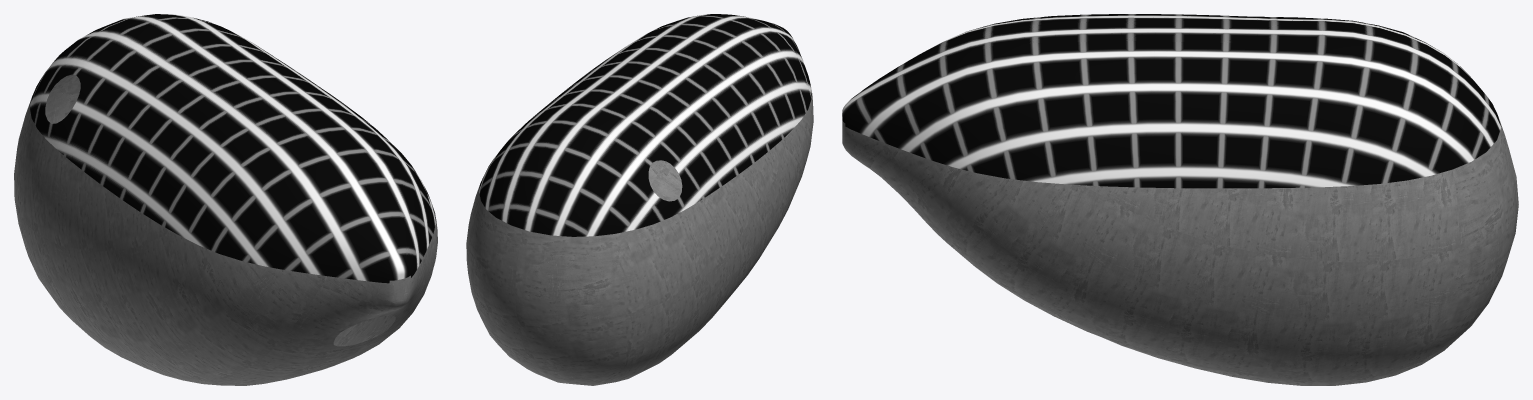
File: StomachHull.fbx
The picture shows the model from 3 angles, left to right: view 1: azimuth 30°, elevation 25°; view 2: azimuth 150°, elevation 25°; view 3: azimuth 270°, elevation 25°; orthographic projection. The views are drawn at different scales.
Parts seen in each view (by area): view 1: Hull_Retop_highpoly; view 2: Hull_Retop_highpoly; view 3: Hull_Retop_highpoly.
Part boxes in pixels (x1,y1,x2,y2): Hull_Retop_highpoly: (14, 14, 437, 385); Hull_Retop_highpoly: (466, 14, 813, 385); Hull_Retop_highpoly: (842, 14, 1518, 385).
Size of the model in its own units: 5739 by 6659 by 11906.
